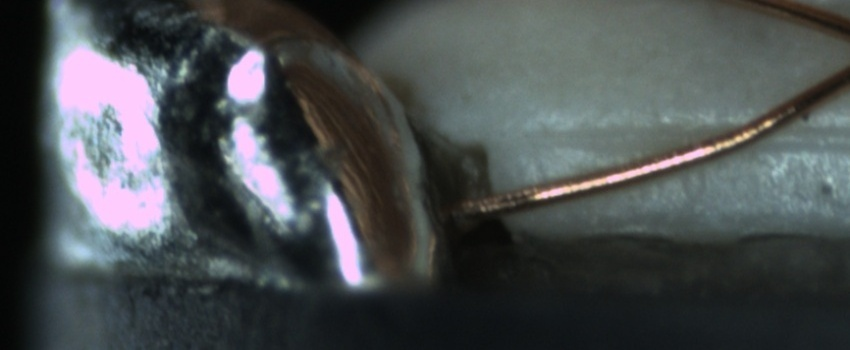DL: (523, 103, 850, 169)
